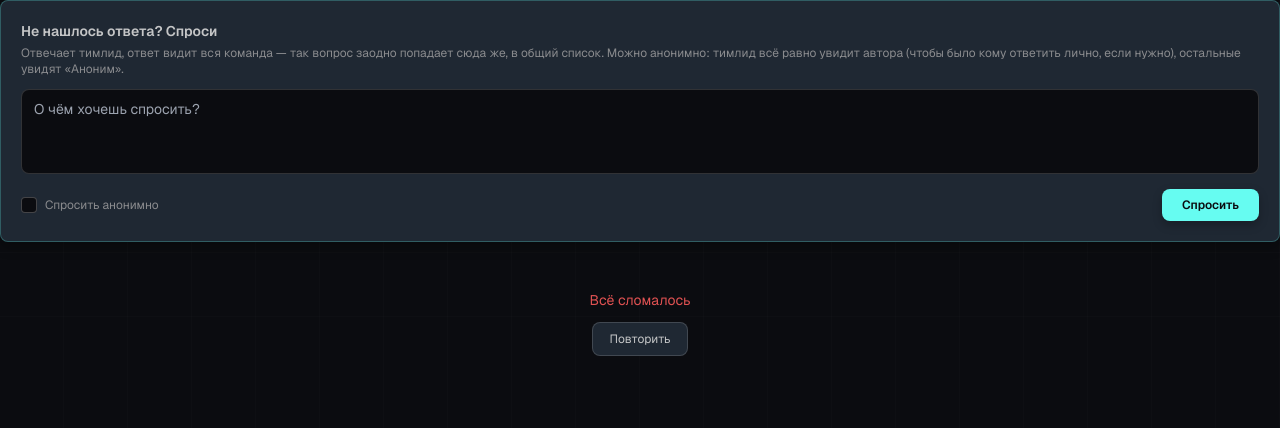
Test: TeamQuestions › shows a retry instead of an empty page when the fetch fails
Expected: the text "Всё сломалось" is shown, x1=590 y1=291 x2=690 y2=309
Click the button "Повторить": (640, 339) x1=592 y1=322 x2=688 y2=356
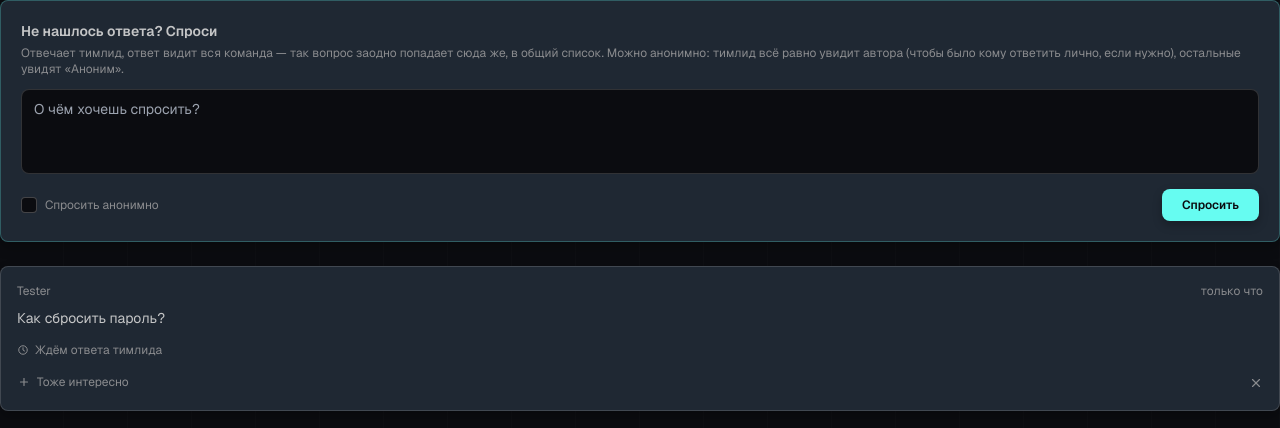
Expected: the text "Как сбросить пароль?" is shown, x1=17 y1=309 x2=165 y2=327
